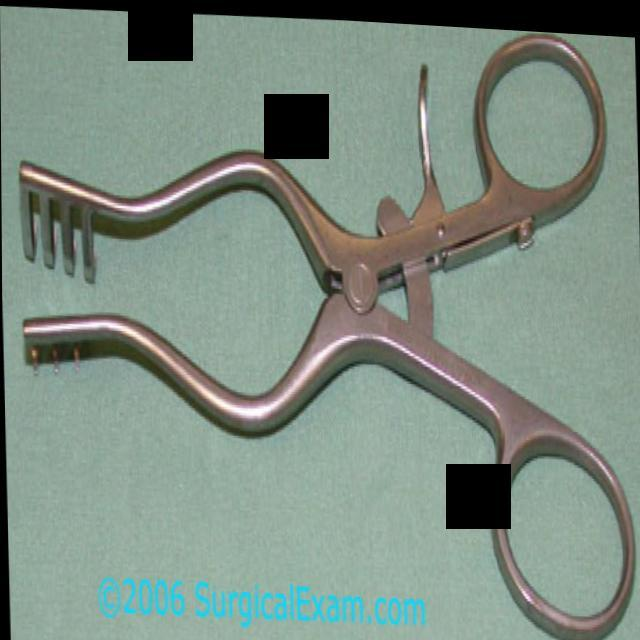Self Retractor: (0, 0, 638, 640)
